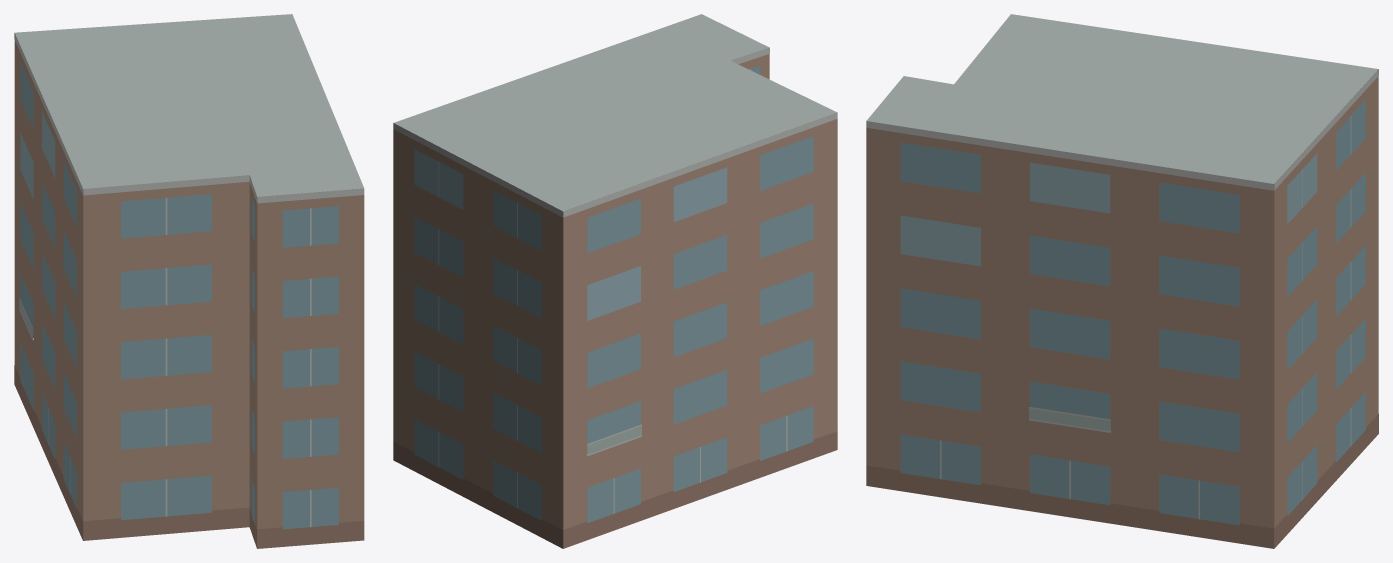
The model's file is survey-upis-32893526.glb.
The picture shows the model from 3 angles, left to right: view 1: azimuth 30°, elevation 25°; view 2: azimuth 150°, elevation 25°; view 3: azimuth 270°, elevation 25°; orthographic projection. The views are drawn at different scales.
Visible parts, largest first — view 1: survey-upis-32893526.tmp; view 2: survey-upis-32893526.tmp; view 3: survey-upis-32893526.tmp.
Boxes of the visible parts, x1=… form: survey-upis-32893526.tmp: x1=14, y1=14, x2=364, y2=548; survey-upis-32893526.tmp: x1=393, y1=14, x2=837, y2=548; survey-upis-32893526.tmp: x1=866, y1=14, x2=1378, y2=548.
Size of the model in its own units: 13.21 by 13.2 by 16.81.
